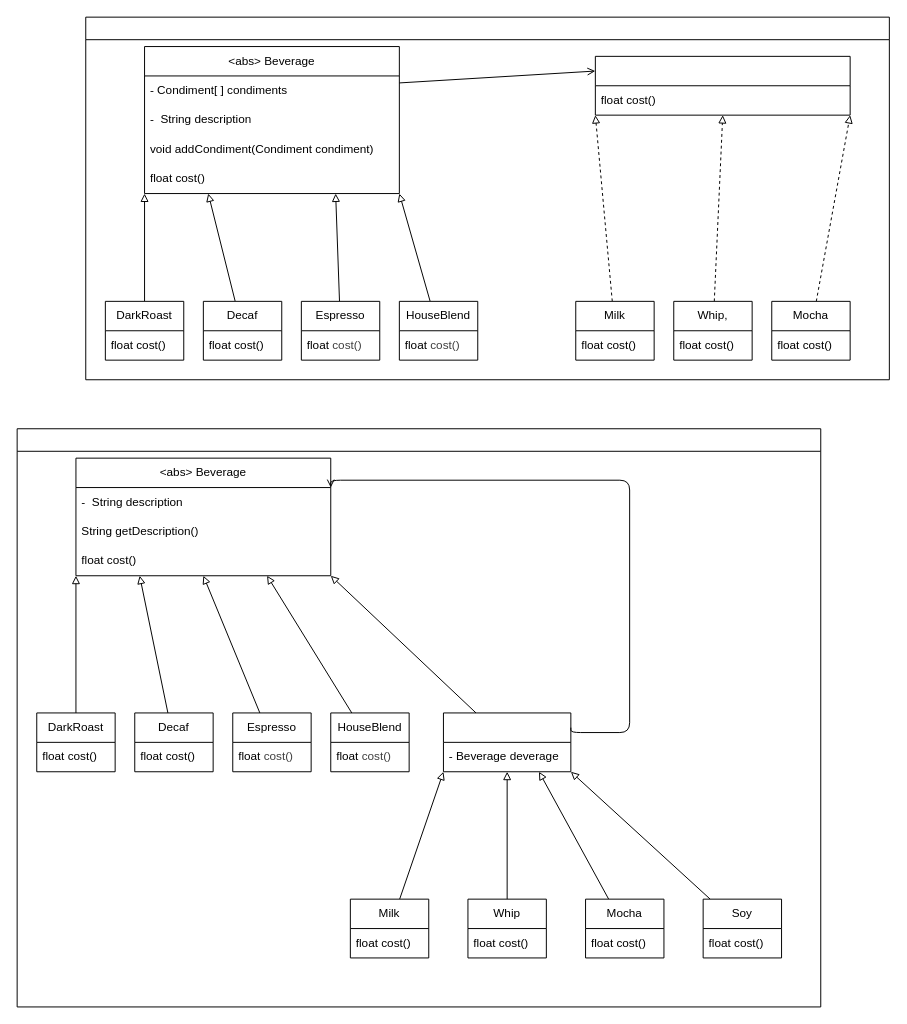
The diagram is 907 pixels wide and 1024 high, and some of its shapes have lost their labels. Each missing label, with the box of its shape:
<i> Condiment: (594, 55, 850, 115)
Condiment: (442, 712, 571, 772)
StarbuzzCoffee V1 (Not Docerator Design Pattern): (85, 16, 889, 380)
StarbuzzCoffee V2 (Docerator Design Pattern): (16, 428, 821, 1007)
